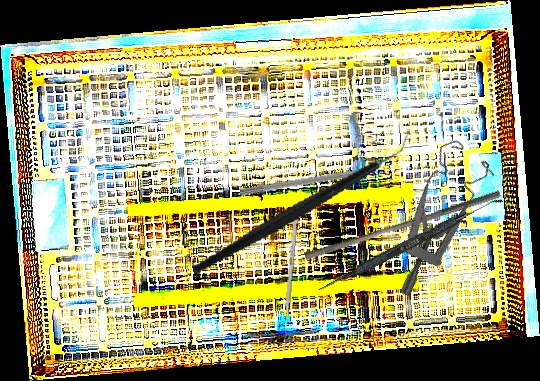Chopper: (175, 129, 427, 276)
Pusher: (303, 182, 502, 268), (239, 163, 396, 198), (282, 206, 299, 343)
Spatula Surgical: (317, 190, 503, 298)
Speculum: (347, 131, 518, 299)
